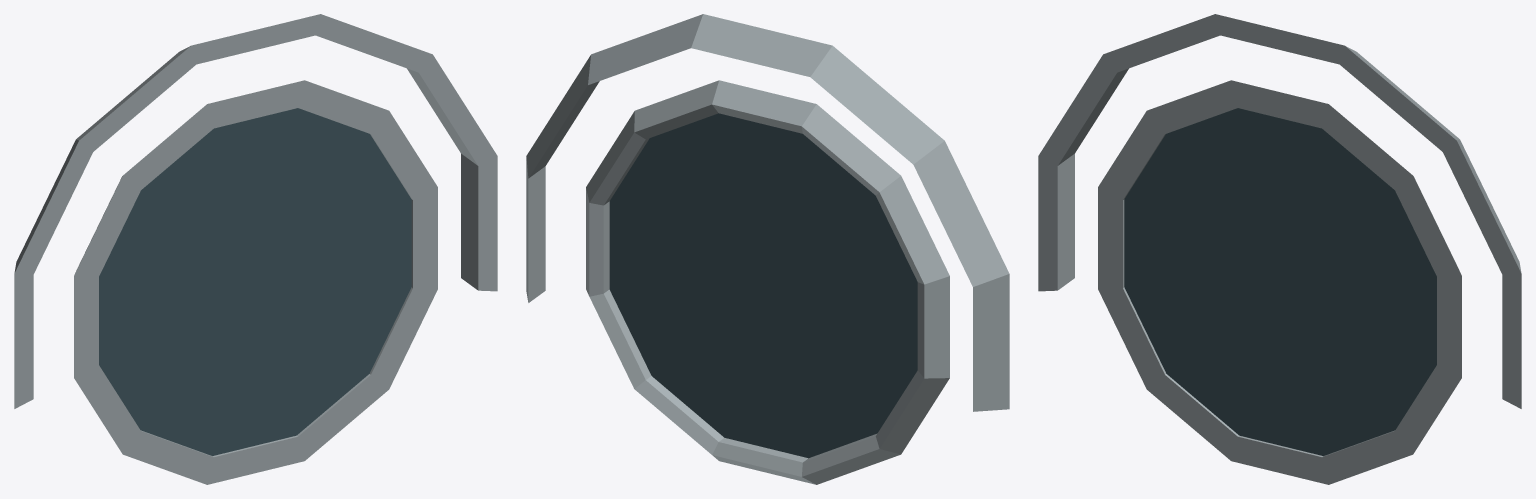
3 renders of one model, left to right at view 1: azimuth 30°, elevation 25°; view 2: azimuth 150°, elevation 25°; view 3: azimuth 330°, elevation 25°, orthographic.
Parts seen in each view (by area): view 1: component.root.mesh; view 2: component.root.mesh; view 3: component.root.mesh.
Part boxes in pixels (x1,y1,x2,y2): component.root.mesh: [14, 14, 497, 484]; component.root.mesh: [526, 14, 1009, 484]; component.root.mesh: [1038, 14, 1521, 484].
Bounding box in the file's own units: 0.5796 × 0.5081 × 0.036.
